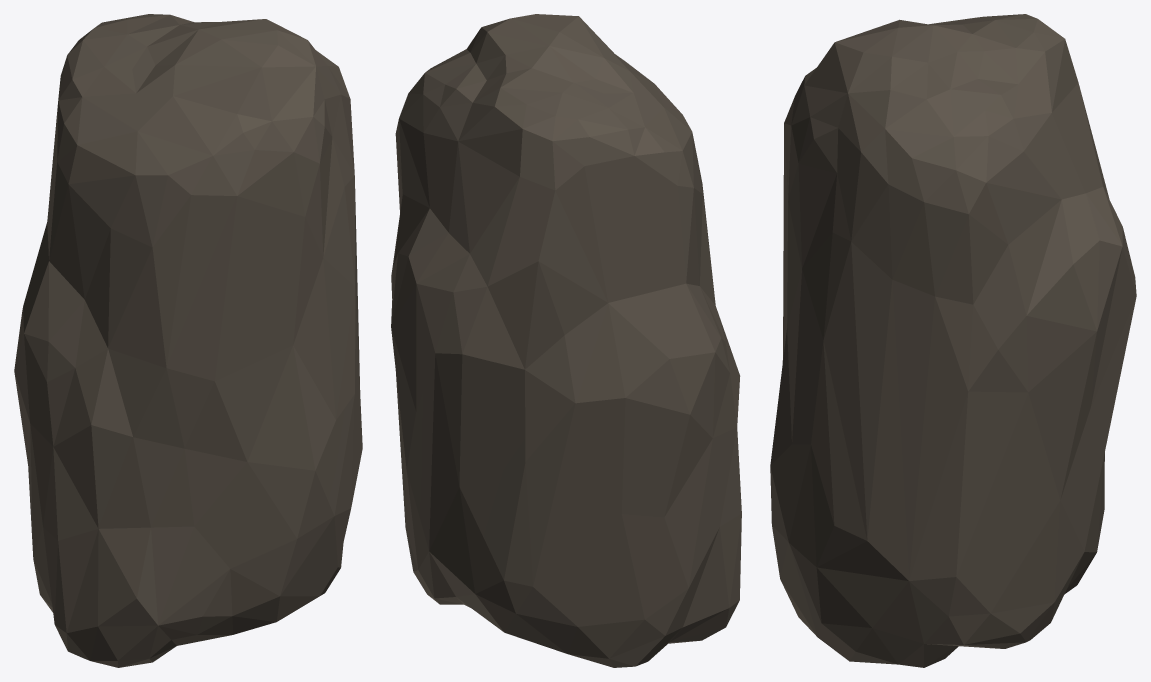
The model's file is bog_cliff_c.gltf.
3 views of the same model, side by side, from view 1: azimuth 30°, elevation 25°; view 2: azimuth 150°, elevation 25°; view 3: azimuth 270°, elevation 25° (orthographic). The views are drawn at different scales.
Parts seen in each view (by area): view 1: bog_cliff_c; view 2: bog_cliff_c; view 3: bog_cliff_c.
Boxes of the visible parts, x1,y1,x2,y2 form: bog_cliff_c: (14,14,362,667); bog_cliff_c: (391,14,741,667); bog_cliff_c: (770,14,1136,667).
Bounding box in the file's own units: 5.28 × 9.51 × 5.07.
Materials: 1 (1 with a texture image).
